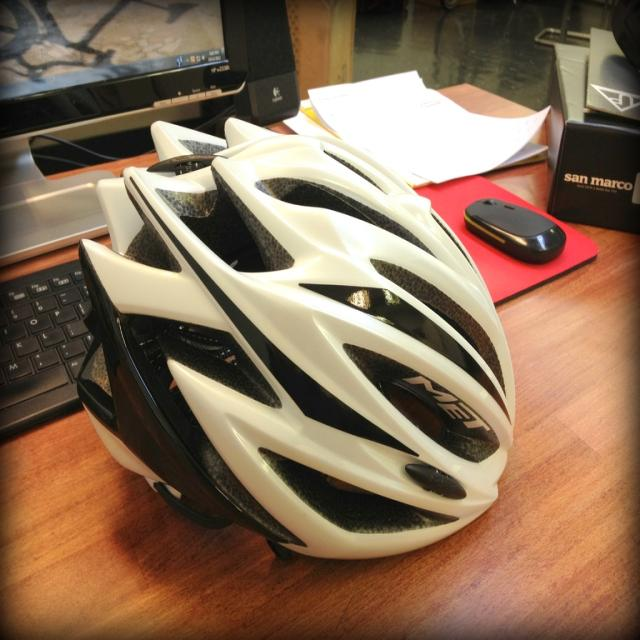Computer-mouse: (462, 192, 567, 262)
